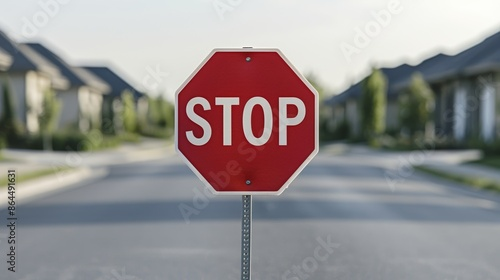StopSign: (173, 47, 318, 195)
